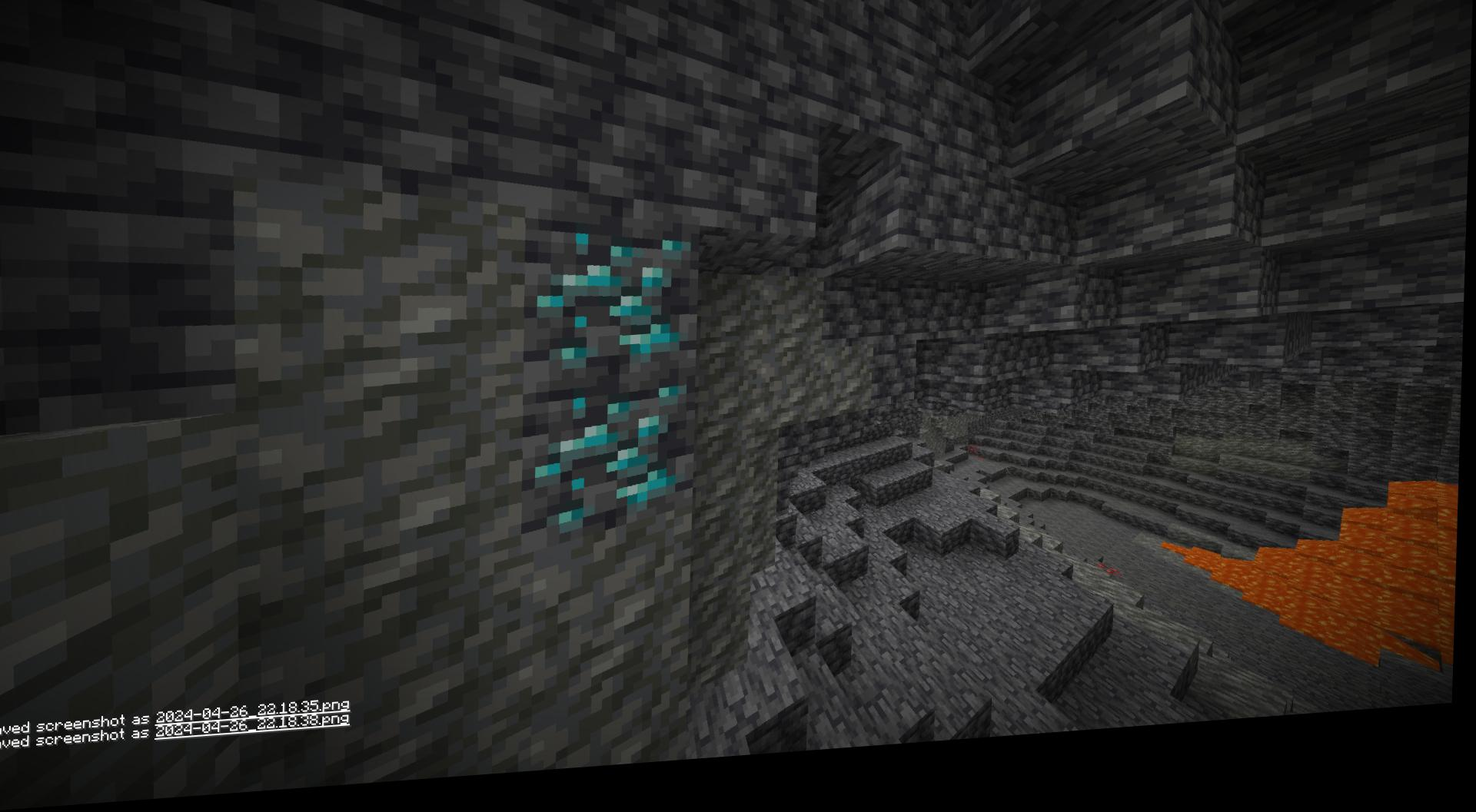diamond ore: (512, 243, 695, 386), (529, 390, 701, 541)
redstone ore: (1098, 574, 1126, 600), (968, 457, 992, 481)
